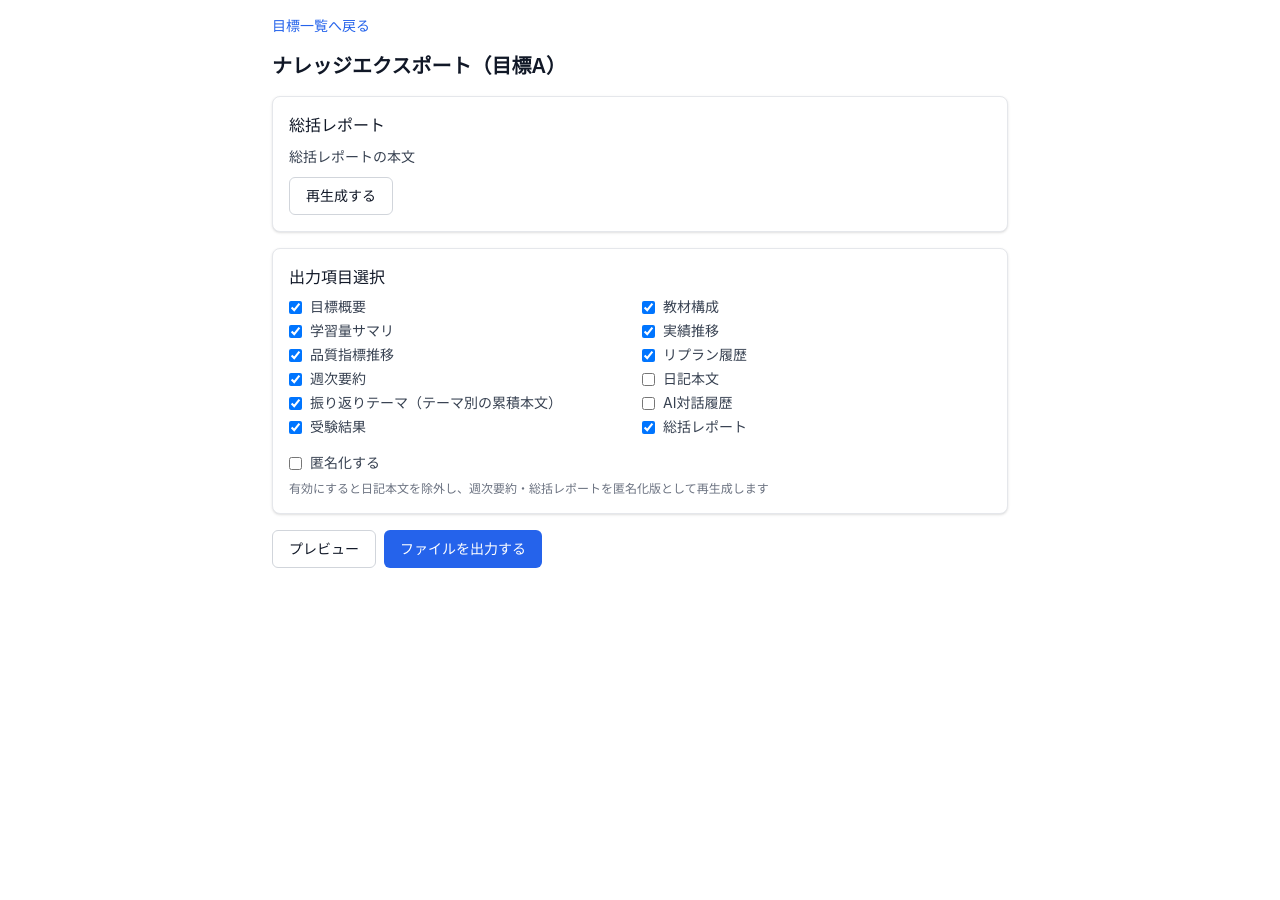
Test: KnowledgeExportPage のプレビューと実行 › reports that the export succeeded
What coordinates should you click on to do the following:
click the button "ファイルを出力する"
I would click on:
 (463, 549)
Its box is [384,530,542,568].
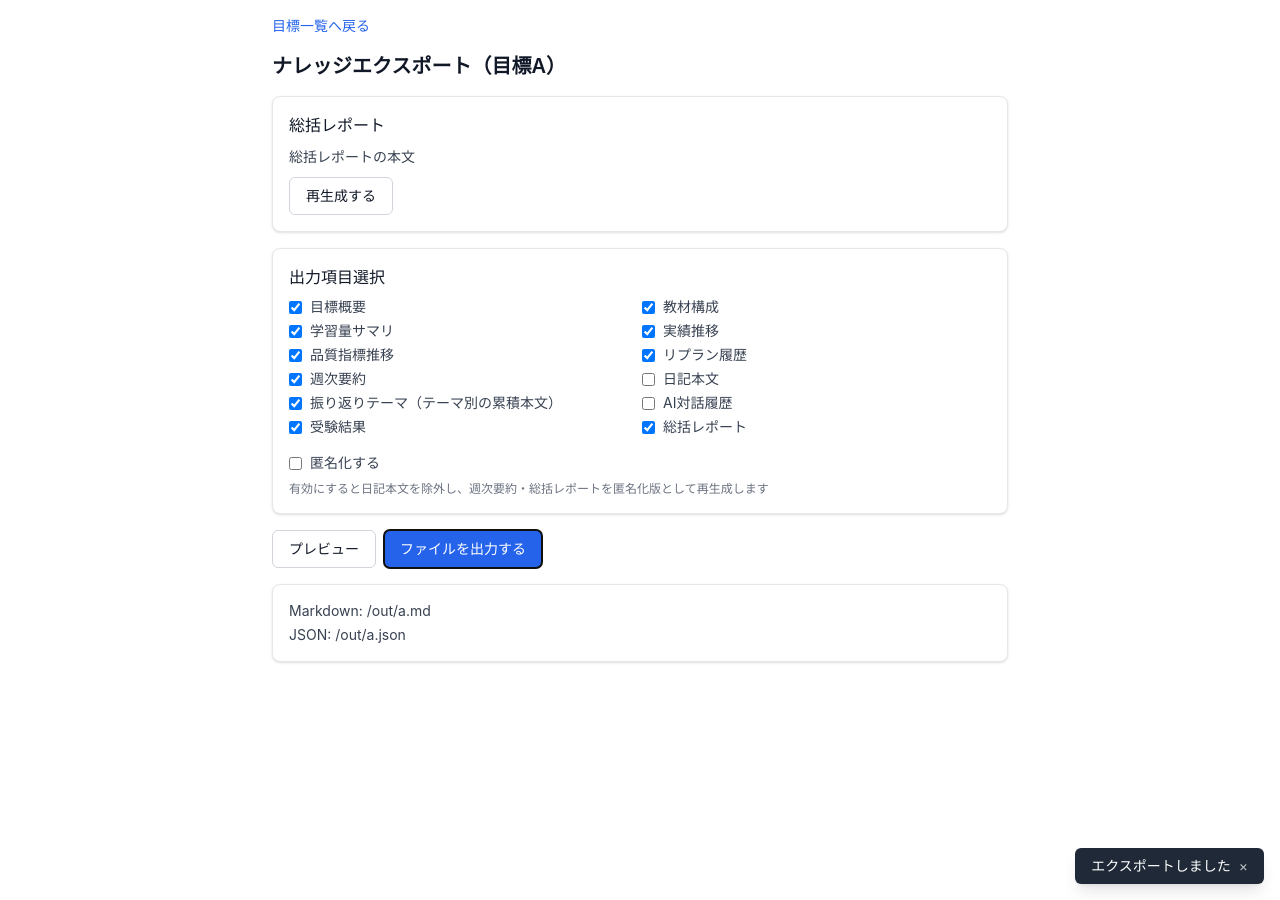
expect the text "エクスポートしました" is shown: met, box [1091,856,1231,876]
